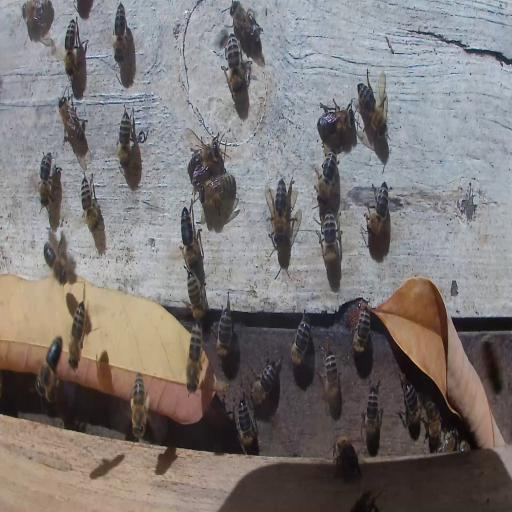nonpollenbee: (249, 349, 281, 410), (356, 77, 388, 137), (34, 336, 64, 398), (266, 178, 290, 250), (317, 97, 353, 143), (229, 0, 260, 49), (362, 382, 383, 454), (398, 378, 422, 440), (57, 96, 88, 144), (224, 36, 247, 96), (366, 182, 391, 237), (68, 298, 86, 373), (318, 209, 340, 269), (323, 346, 340, 419), (214, 299, 233, 364), (332, 437, 362, 478), (80, 173, 101, 231), (236, 395, 256, 455), (200, 176, 236, 209), (316, 150, 338, 204), (44, 240, 68, 287), (350, 305, 372, 355), (290, 315, 311, 367), (113, 2, 129, 66), (181, 204, 197, 268), (189, 141, 221, 173), (186, 271, 206, 322), (118, 106, 134, 168), (424, 399, 442, 450), (21, 0, 55, 26), (38, 150, 52, 208), (352, 489, 384, 511), (64, 18, 76, 76), (440, 428, 461, 452), (458, 440, 470, 455)
pollenbee: (128, 369, 151, 442), (185, 325, 208, 395)
